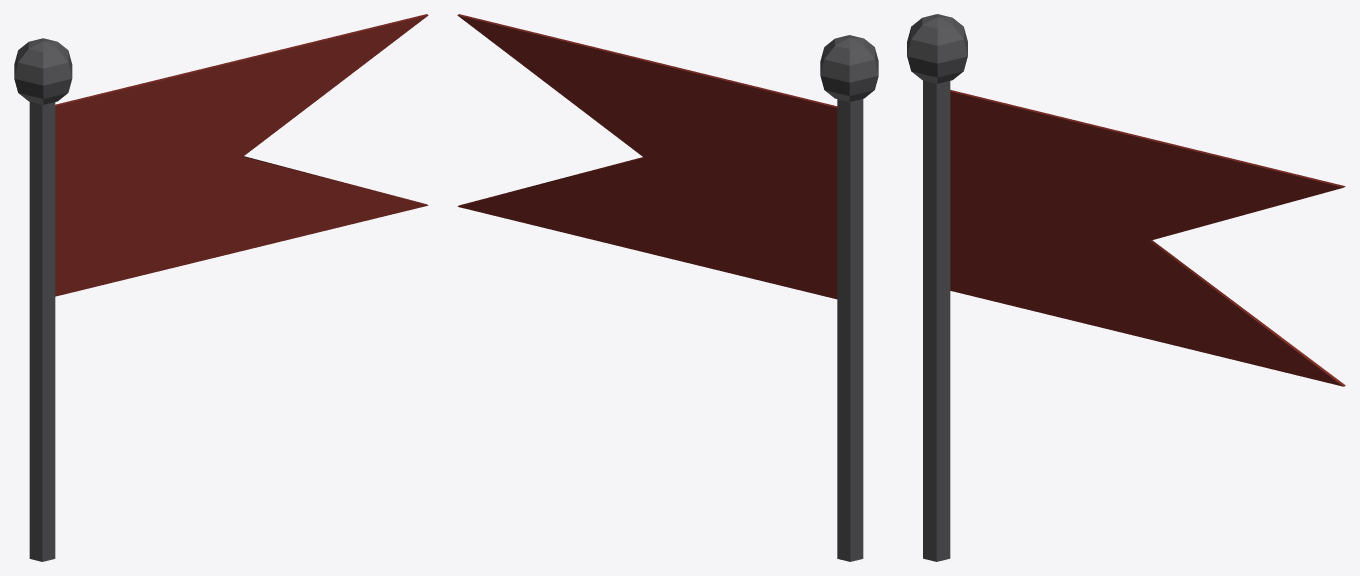
File: Bandera.fbx
3 views of the same model, side by side, from view 1: azimuth 30°, elevation 25°; view 2: azimuth 150°, elevation 25°; view 3: azimuth 330°, elevation 25° (orthographic). The views are drawn at different scales.
Visible parts, largest first — view 1: pCylinder20; view 2: pCylinder20; view 3: pCylinder20.
Boxes of the visible parts, x1=… form: pCylinder20: x1=14, y1=14, x2=428, y2=561; pCylinder20: x1=457, y1=14, x2=878, y2=561; pCylinder20: x1=907, y1=14, x2=1345, y2=561.
Size of the model in its own units: 8.71 by 10.29 by 1.05.
